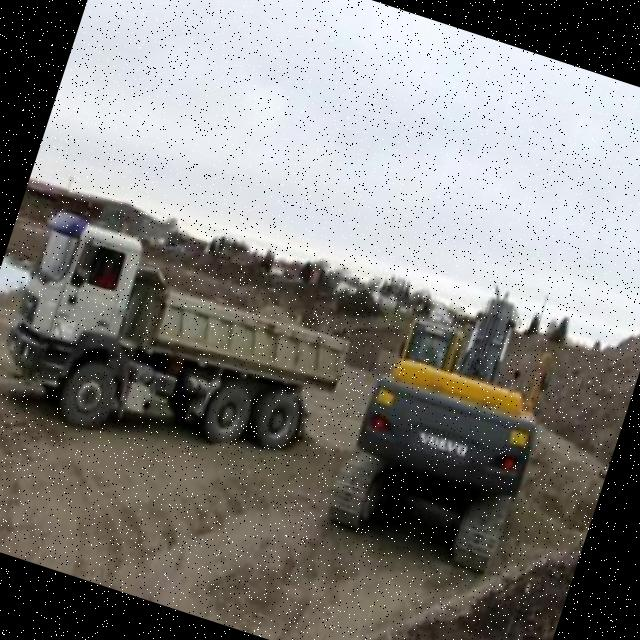Dump Truck: (0, 204, 363, 499)
Excavator: (322, 254, 578, 575)
